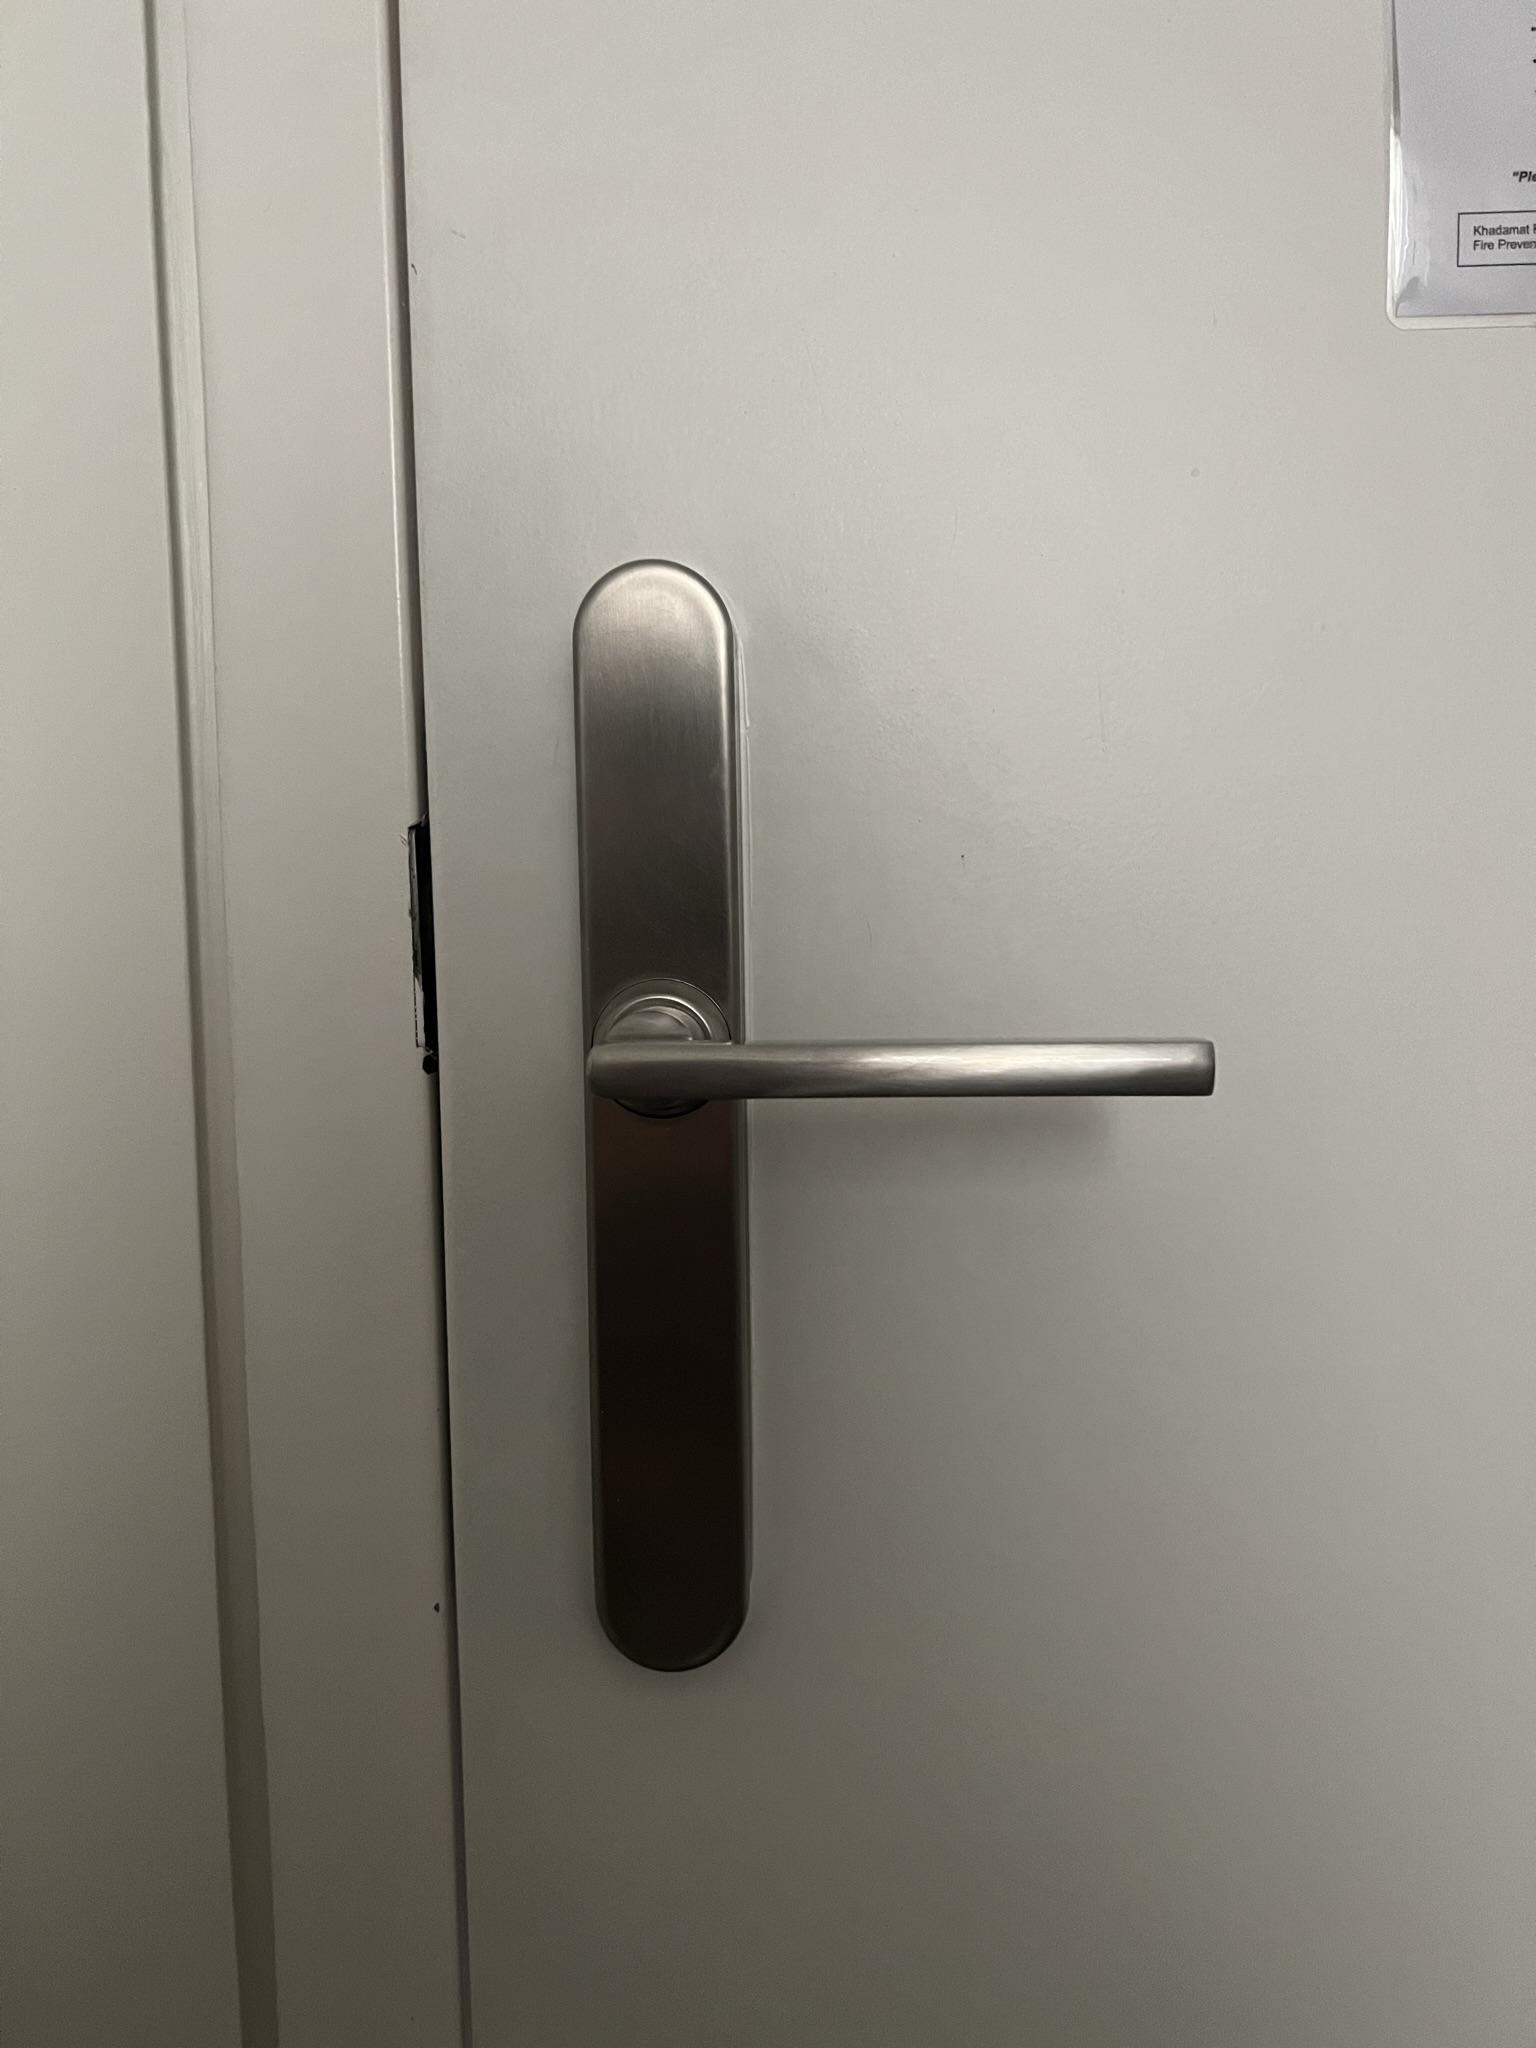handle: (552, 547, 1221, 1679)
